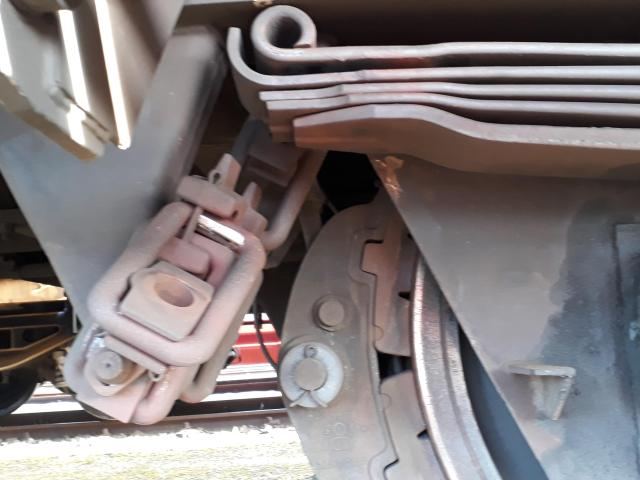blattfederww: (209, 6, 640, 164)
